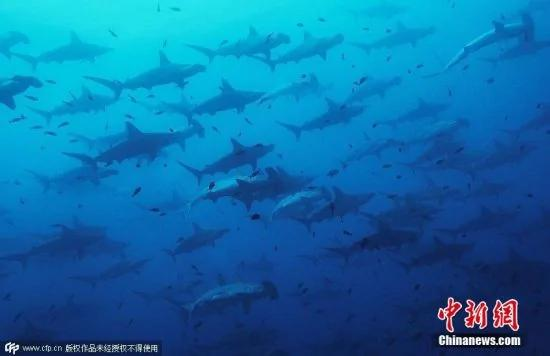shark: (81, 52, 208, 107), (62, 125, 180, 184), (436, 16, 541, 79), (1, 216, 114, 273), (171, 272, 283, 329), (413, 199, 521, 258), (172, 134, 284, 185), (177, 23, 296, 66), (177, 75, 271, 129), (346, 17, 445, 65), (253, 25, 347, 74), (277, 98, 370, 146), (458, 135, 545, 185), (18, 29, 114, 70), (157, 218, 235, 266), (319, 217, 429, 250), (375, 93, 453, 138), (25, 87, 121, 118), (1, 76, 47, 113)
